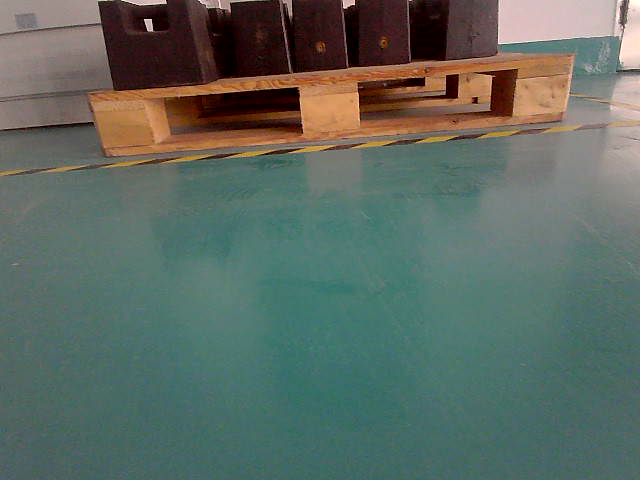block: (296, 66, 367, 148), (86, 90, 171, 158), (511, 52, 575, 138)
